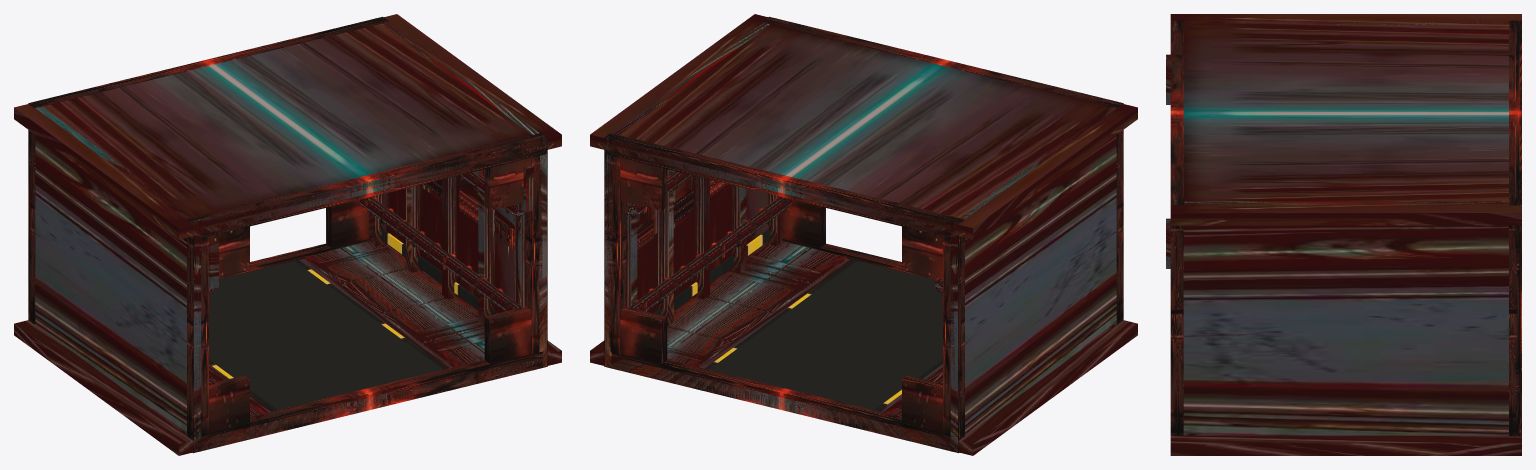
File: hangar_koridor_kara.glb
3 views of the same model, side by side, from view 1: azimuth 30°, elevation 25°; view 2: azimuth 150°, elevation 25°; view 3: azimuth 270°, elevation 25° (orthographic). The views are drawn at different scales.
Visible parts, largest first — view 1: LOD0_koridor; view 2: LOD0_koridor; view 3: LOD0_koridor.
Boxes of the visible parts, box(x1,y1,x2,y2) form: LOD0_koridor: box(14, 14, 561, 455); LOD0_koridor: box(590, 14, 1137, 455); LOD0_koridor: box(1166, 14, 1521, 455).
Size of the model in its own units: 10.2 by 5.84 by 7.7.
Materials: 1 (1 with a texture image).
